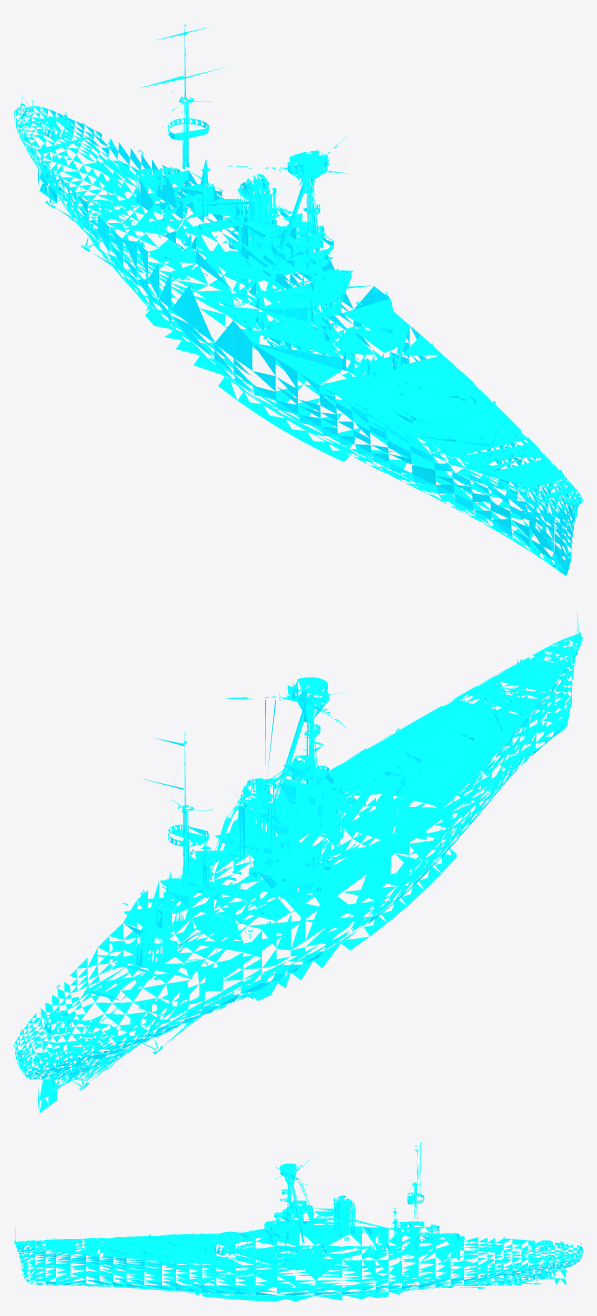
The model's file is Cherbourg.glb.
3 views of the same model, one above another, from view 1: azimuth 30°, elevation 25°; view 2: azimuth 150°, elevation 25°; view 3: azimuth 270°, elevation 25° (orthographic). The views are drawn at different scales.
Bounding box in the file's own units: 1.91 × 3.64 × 13.12.
